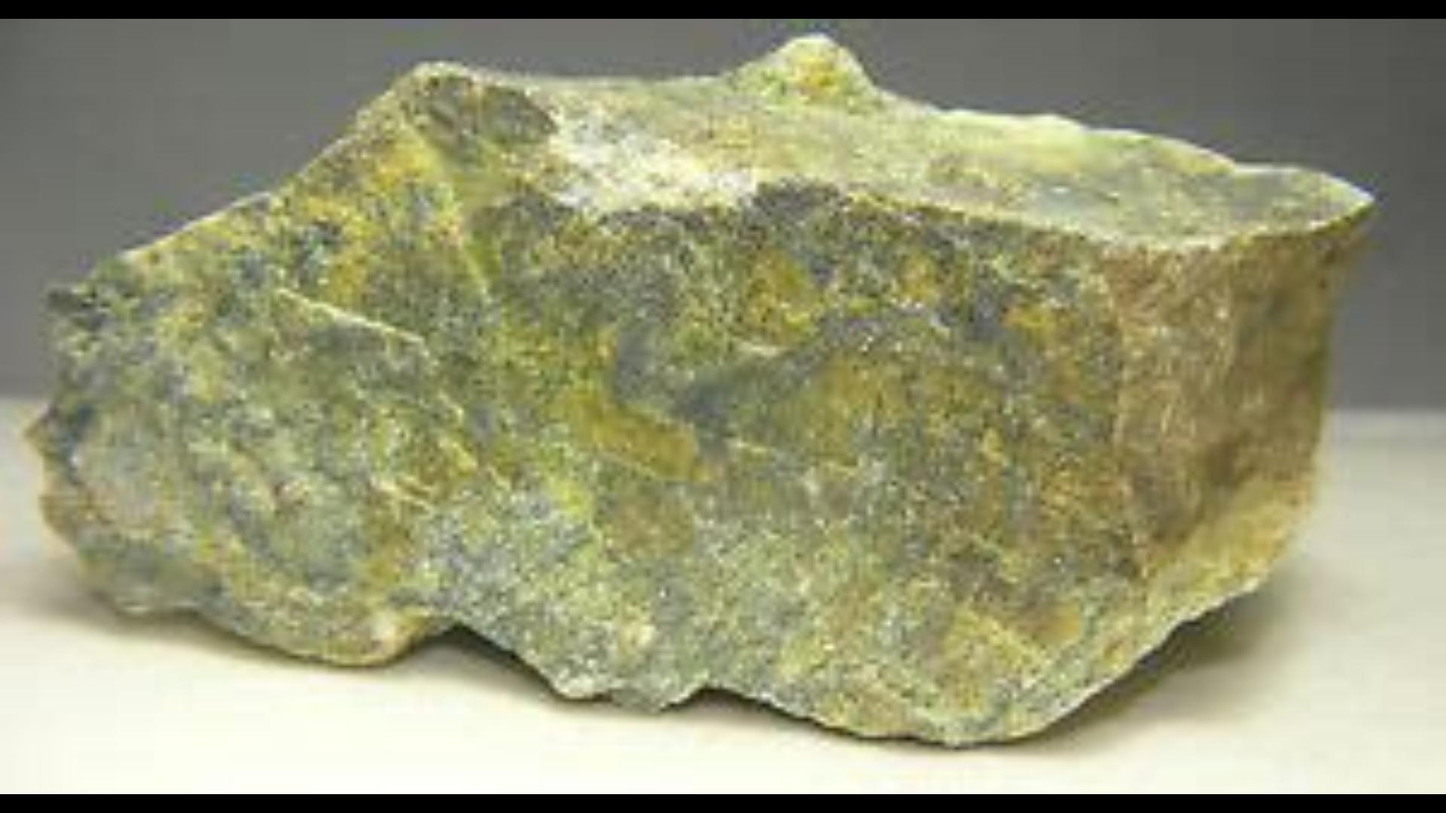rock: (43, 38, 1364, 737)
